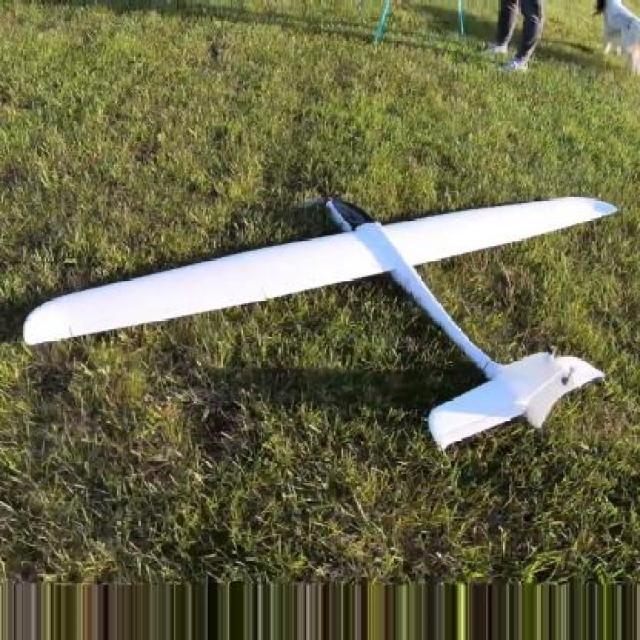iha: (2, 24, 638, 441)
